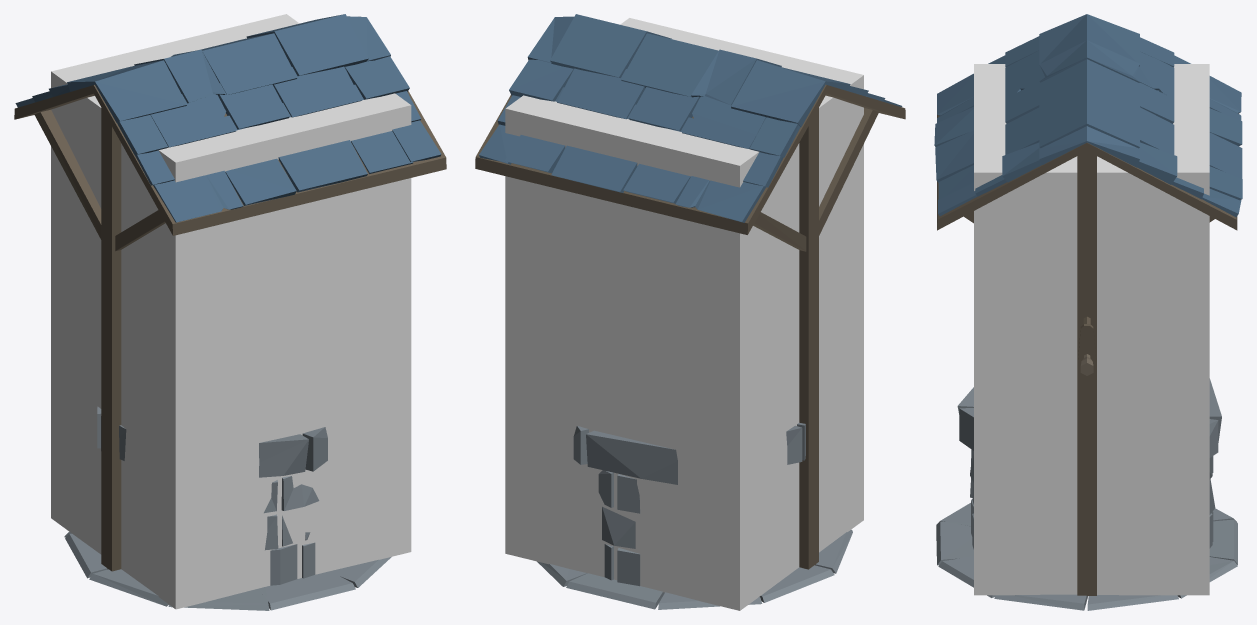
File: farm_well.glb
3 views of the same model, side by side, from view 1: azimuth 30°, elevation 25°; view 2: azimuth 150°, elevation 25°; view 3: azimuth 270°, elevation 25° (orthographic). The views are drawn at different scales.
Parts seen in each view (by area): view 1: Cube.001, WELL; view 2: Cube.001, WELL; view 3: Cube.001, WELL.
Boxes of the visible parts, x1,y1,x2,y2 form: Cube.001: [51, 14, 411, 609]; WELL: [14, 14, 446, 610]; Cube.001: [505, 18, 863, 610]; WELL: [475, 14, 905, 609]; Cube.001: [974, 64, 1209, 595]; WELL: [934, 14, 1242, 610].
Size of the model in its own units: 1.74 by 2.62 by 1.55.
Materials: 1 (1 with a texture image).
